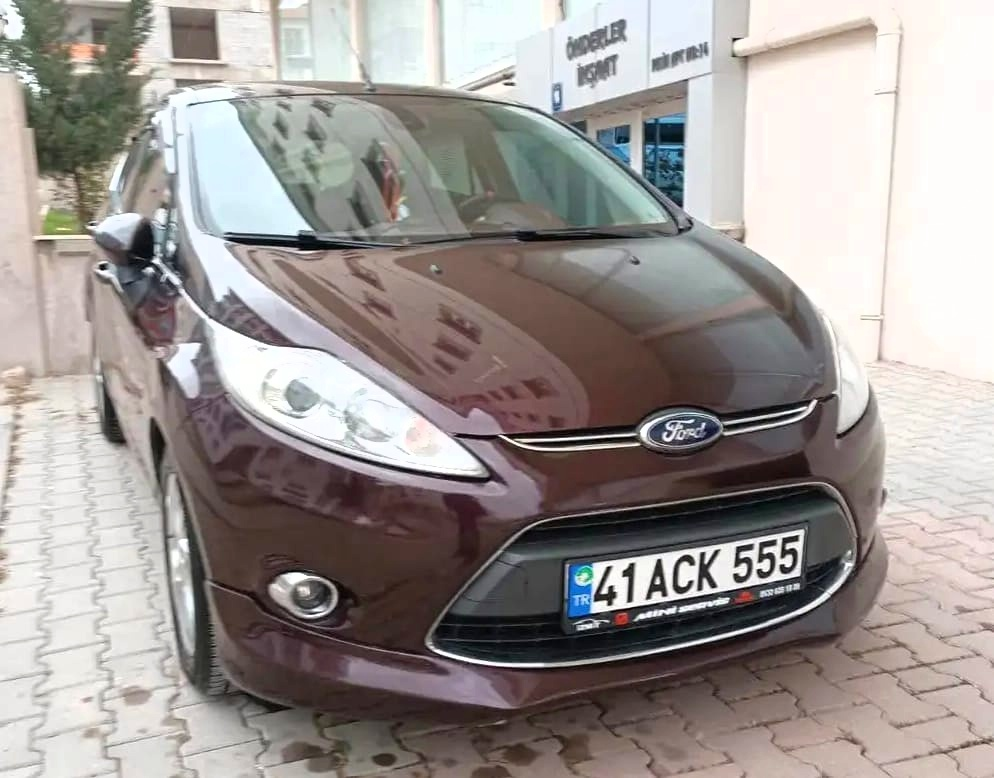plaka: (589, 531, 818, 623)
